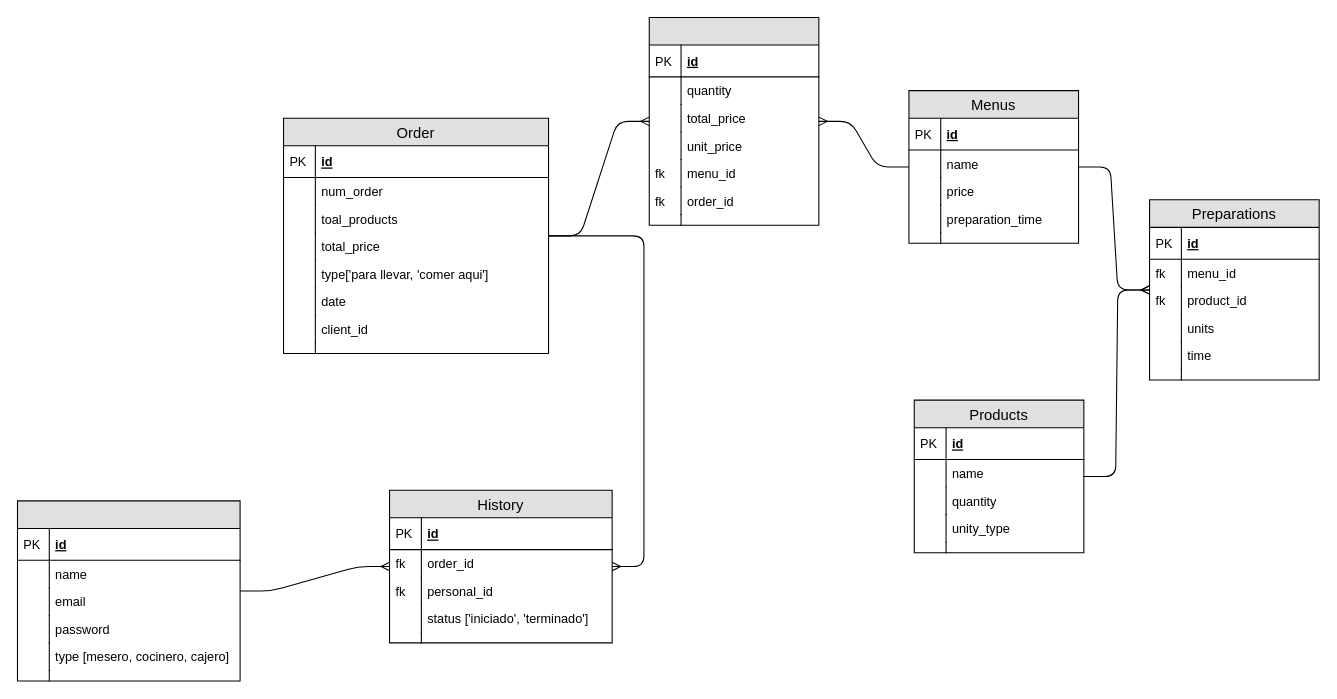
Image size: 1337x699. Some labels were removed from this diagram. The shapes that lost their labels are listed below. From the top down, each one's box as (x1, y1, x2, y2) in pixels, then its label:
(648, 16, 819, 225): Order_Details
(16, 500, 240, 681): Personal
